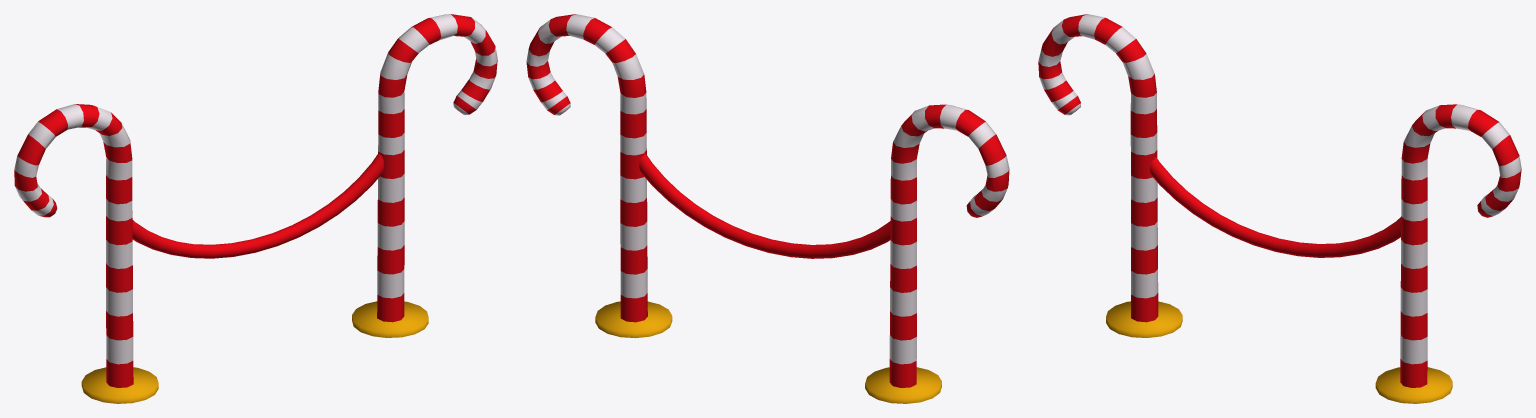
Rendered from SEPARADOR 1.fbx.
3 renders of one model, left to right at view 1: azimuth 30°, elevation 25°; view 2: azimuth 150°, elevation 25°; view 3: azimuth 330°, elevation 25°, orthographic.
Visible parts, largest first — view 1: Separador 2; view 2: Separador 2; view 3: Separador 2.
Part boxes in pixels (x1,y1,x2,y2): Separador 2: (14, 14, 497, 403); Separador 2: (526, 14, 1009, 403); Separador 2: (1038, 14, 1521, 403).
Bounding box in the file's own units: 1874 × 1097 × 258.
